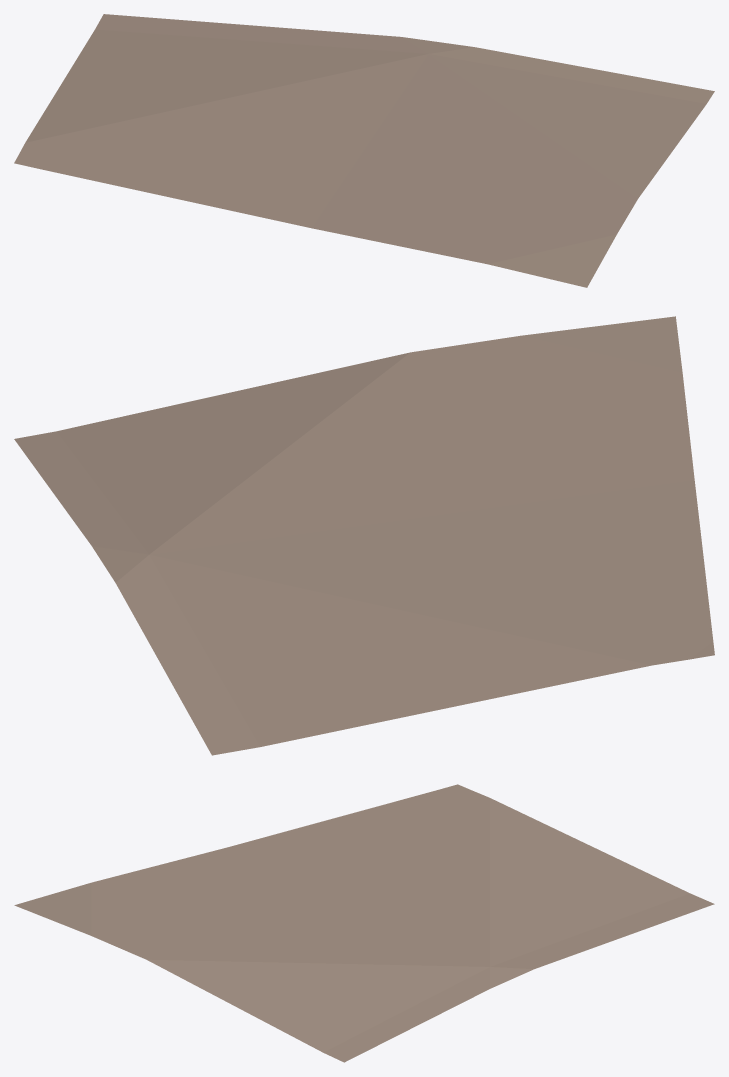
Rendered from farm_-22_-27_soil.glb.
3 renders of one model, top to bottom at view 1: azimuth 30°, elevation 25°; view 2: azimuth 150°, elevation 25°; view 3: azimuth 270°, elevation 25°, orthographic. The views are drawn at different scales.
Parts seen in each view (by area): view 1: geometry_0; view 2: geometry_0; view 3: geometry_0.
Boxes of the visible parts, x1=… form: geometry_0: x1=14, y1=14, x2=714, y2=287; geometry_0: x1=14, y1=316, x2=714, y2=755; geometry_0: x1=14, y1=784, x2=714, y2=1062.
Bounding box in the file's own units: 120 × 6.02 × 141.
